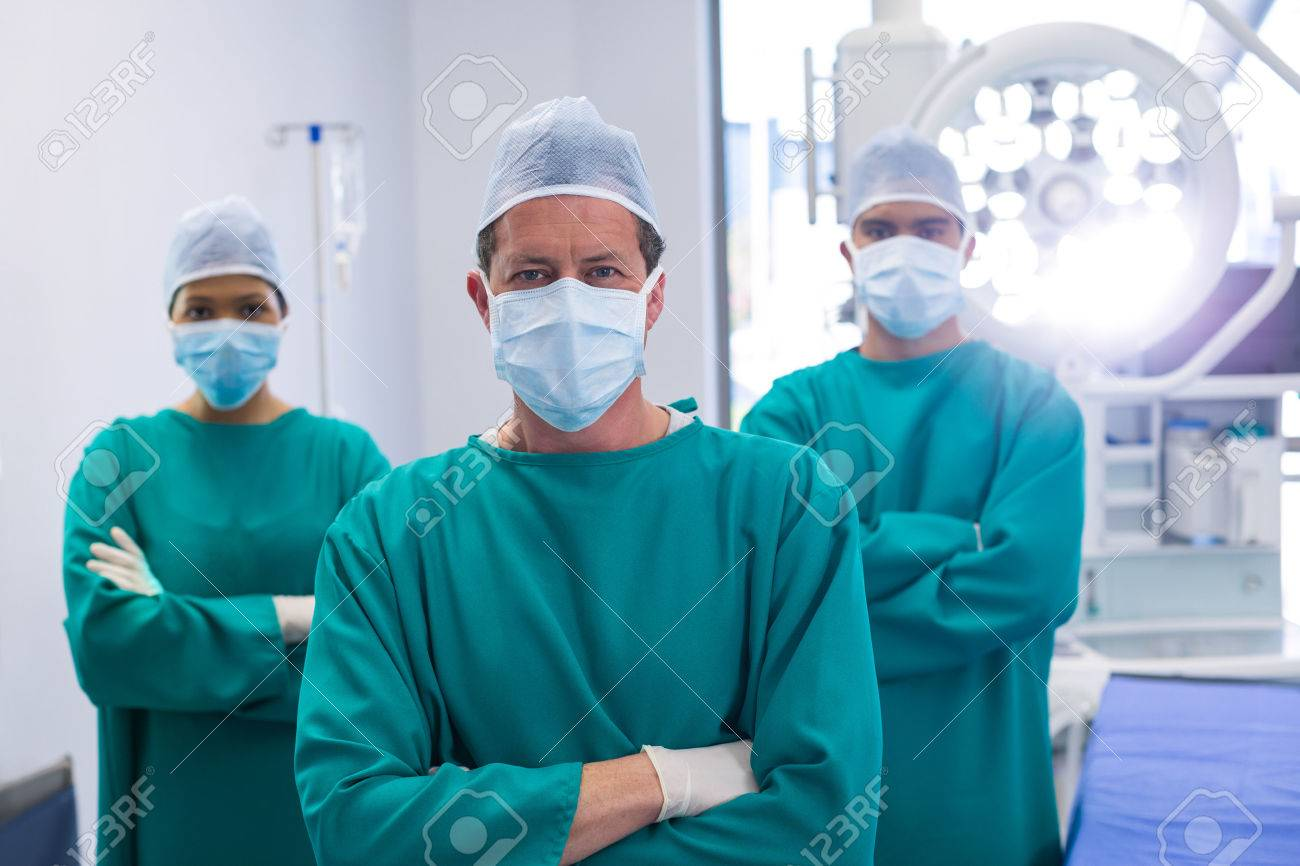mask: (478, 286, 654, 427), (169, 329, 292, 405), (858, 241, 964, 322)
